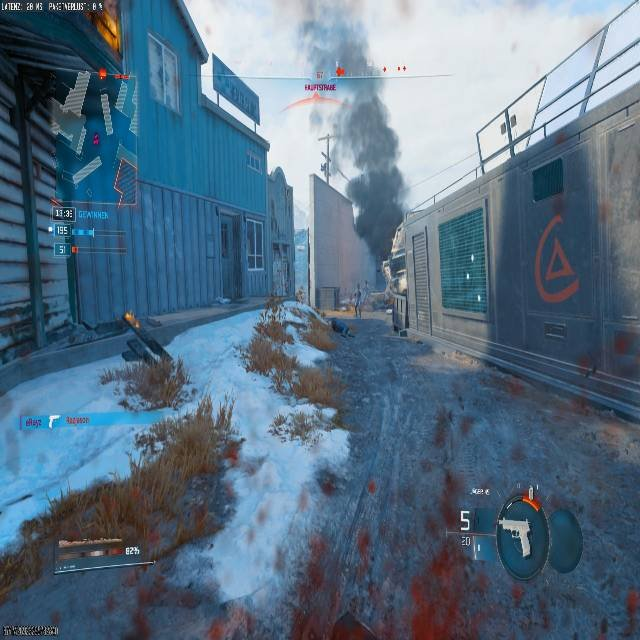player: (320, 88, 407, 339), (295, 286, 305, 303)
